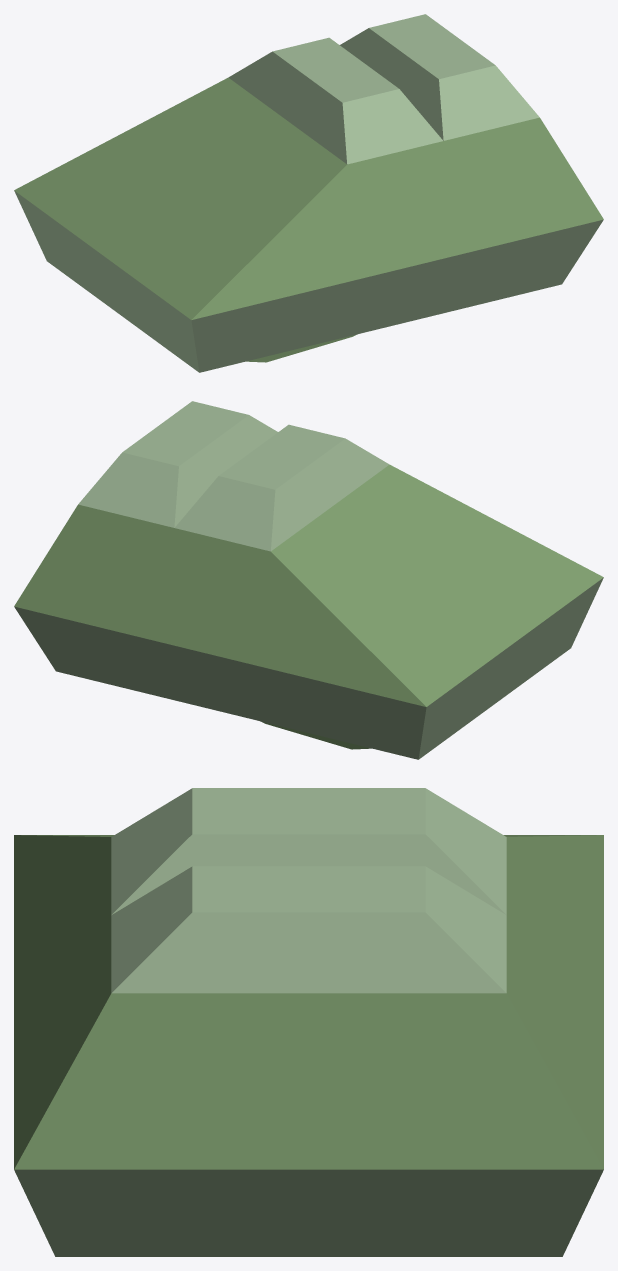
The model's file is MilitaryBackpack.fbx.
3 views of the same model, one above another, from view 1: azimuth 30°, elevation 25°; view 2: azimuth 150°, elevation 25°; view 3: azimuth 270°, elevation 25° (orthographic). The views are drawn at different scales.
Parts seen in each view (by area): view 1: MilitaryBackpack; view 2: MilitaryBackpack; view 3: MilitaryBackpack.
Part boxes in pixels (x1,y1,x2,y2): MilitaryBackpack: [14, 14, 603, 372]; MilitaryBackpack: [14, 401, 603, 759]; MilitaryBackpack: [14, 788, 603, 1256].
Bounding box in the file's own units: 0.3316 × 0.1721 × 0.247.
